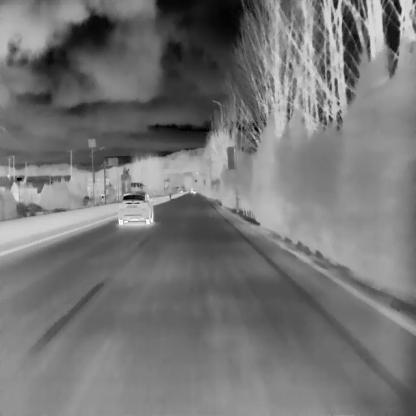car: (117, 191, 153, 224)
